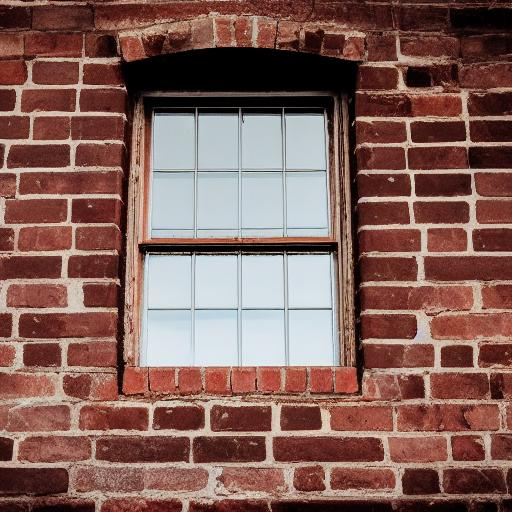Window: (110, 15, 371, 397)
